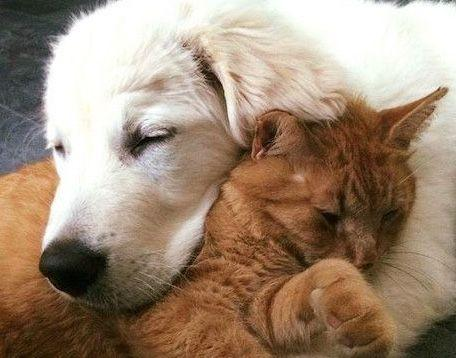kedo: (219, 93, 416, 358)
